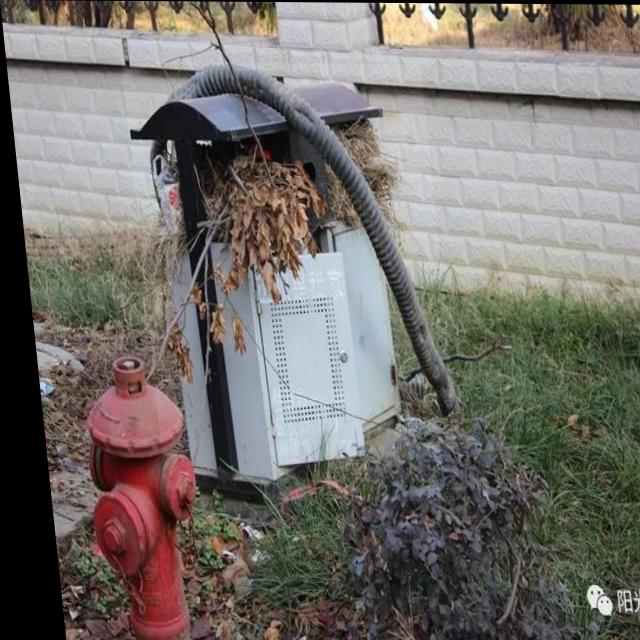overflow: (120, 62, 455, 500)
